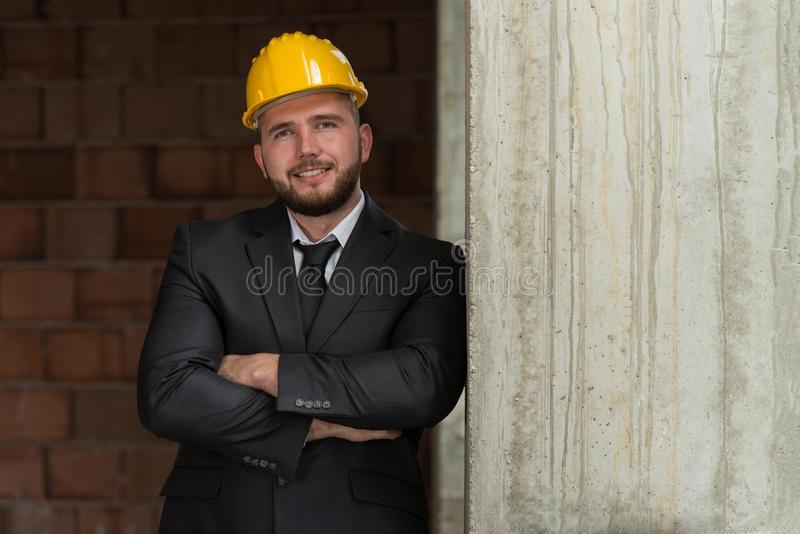helmet: (240, 34, 370, 112)
